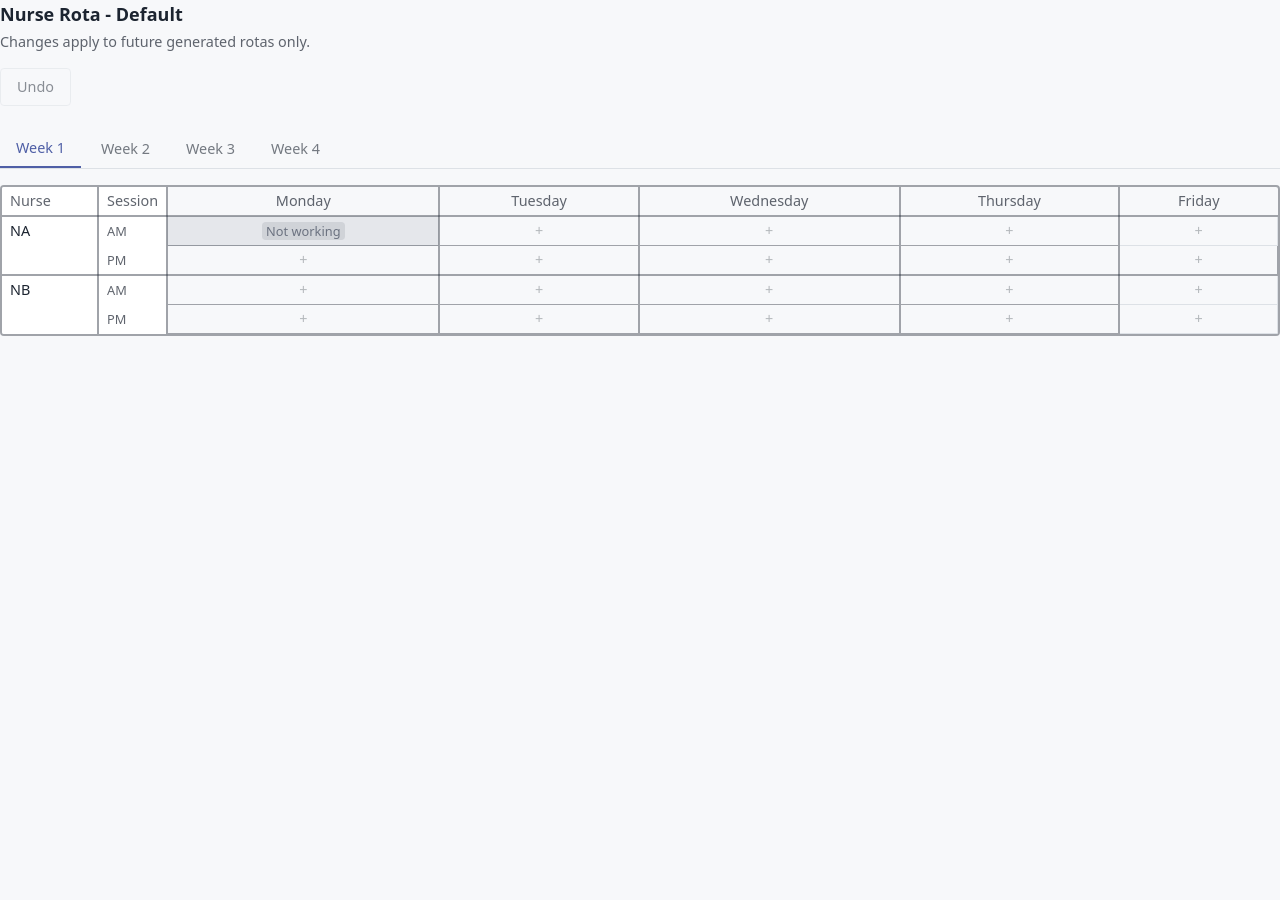
Test: NurseRotaPage: undo › enables Undo after a successful edit
Click the element showing "Not working": (303, 231) [262,222,344,240]
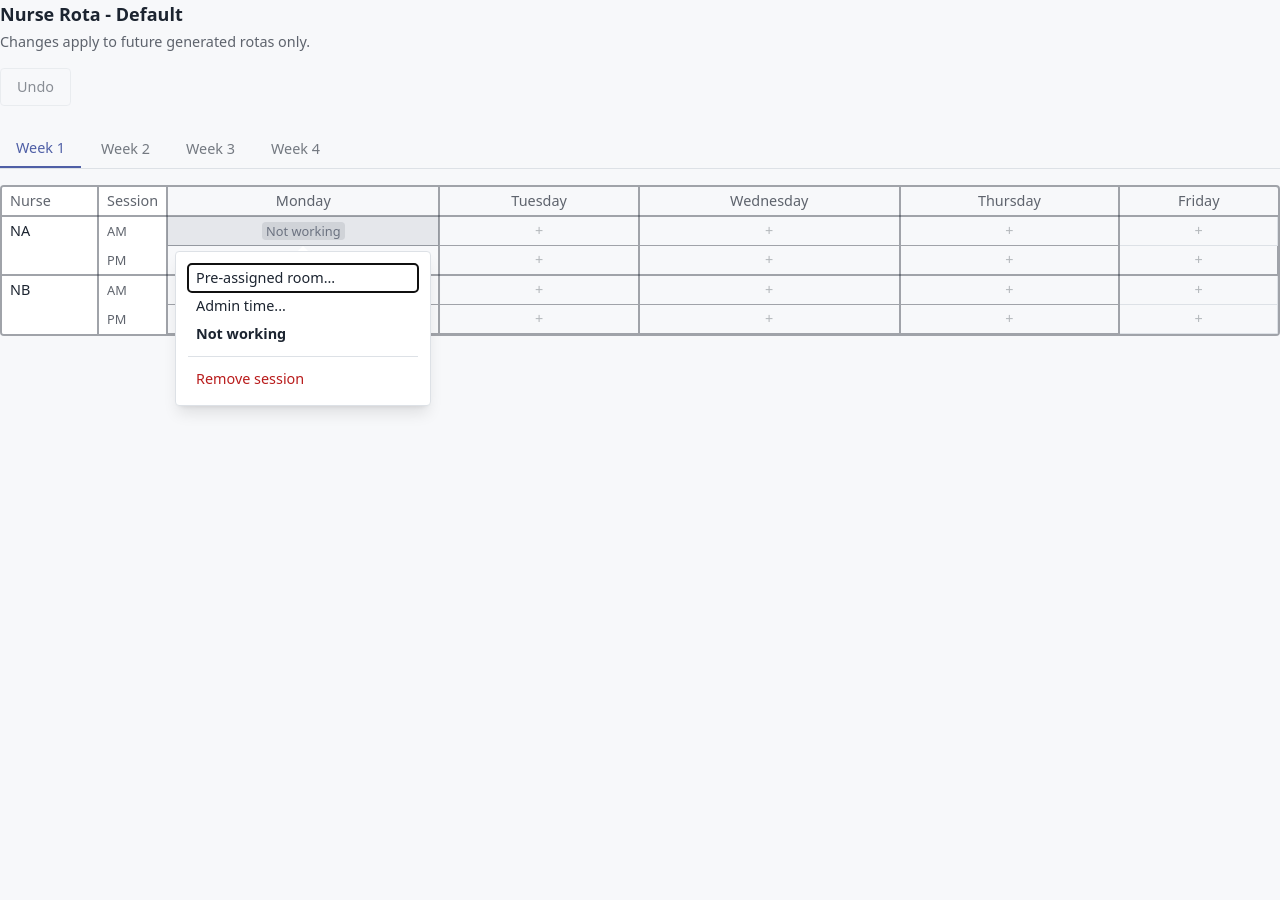
Click the button "Admin time...": (303, 306) [188,292,418,320]
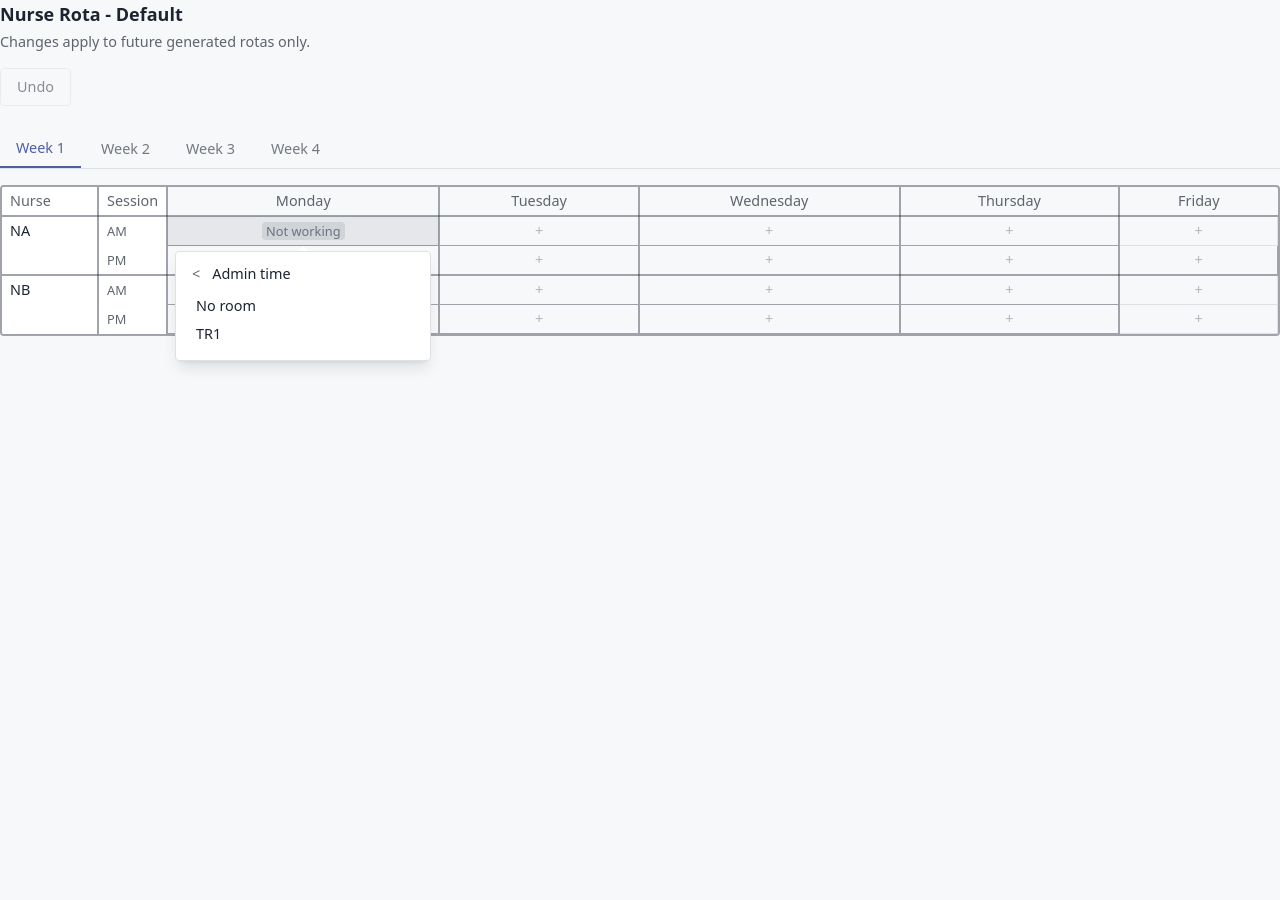
Click the button "No room": (303, 306) [188,292,418,320]
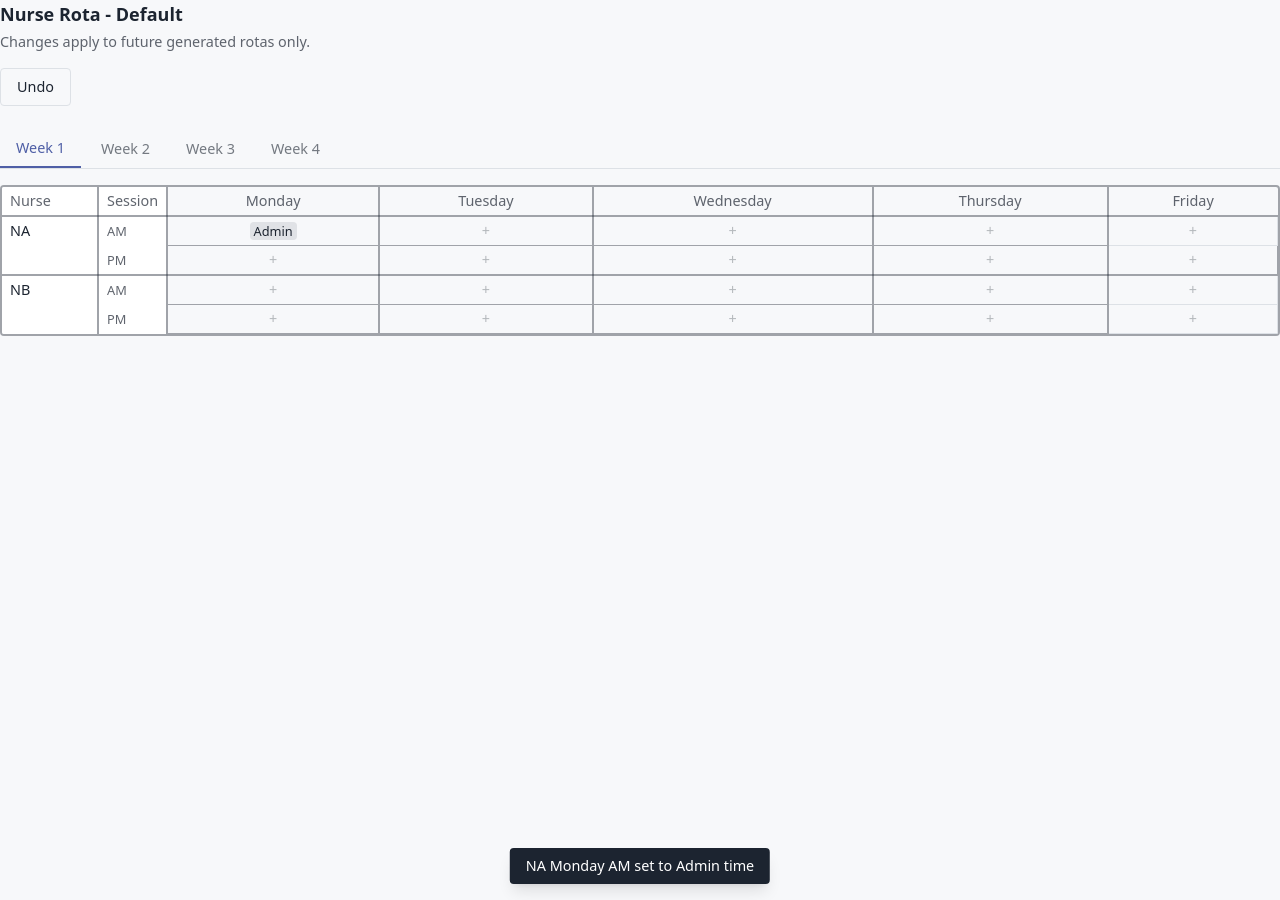
Expected: the text "NA Monday AM set to Admin time" is shown, [510,848,770,884]
Expected: the button "Undo" is enabled, [0,68,71,106]
